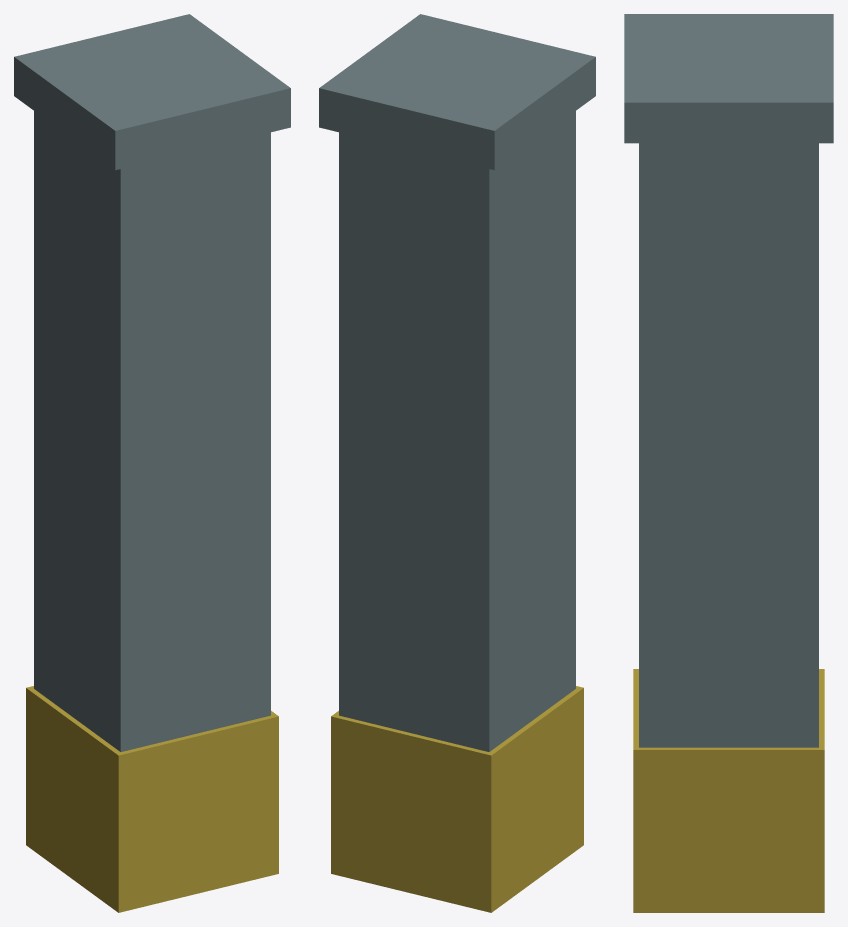
Rendered from pillar.glb.
3 renders of one model, left to right at view 1: azimuth 30°, elevation 25°; view 2: azimuth 150°, elevation 25°; view 3: azimuth 270°, elevation 25°, orthographic. The views are drawn at different scales.
Visible parts, largest first — view 1: pillar; view 2: pillar; view 3: pillar.
Part boxes in pixels (<box>): pillar: <box>14,14,290,912</box>; pillar: <box>319,14,595,912</box>; pillar: <box>624,14,833,912</box>.
Size of the model in its own units: 0.7 by 3 by 0.7.
